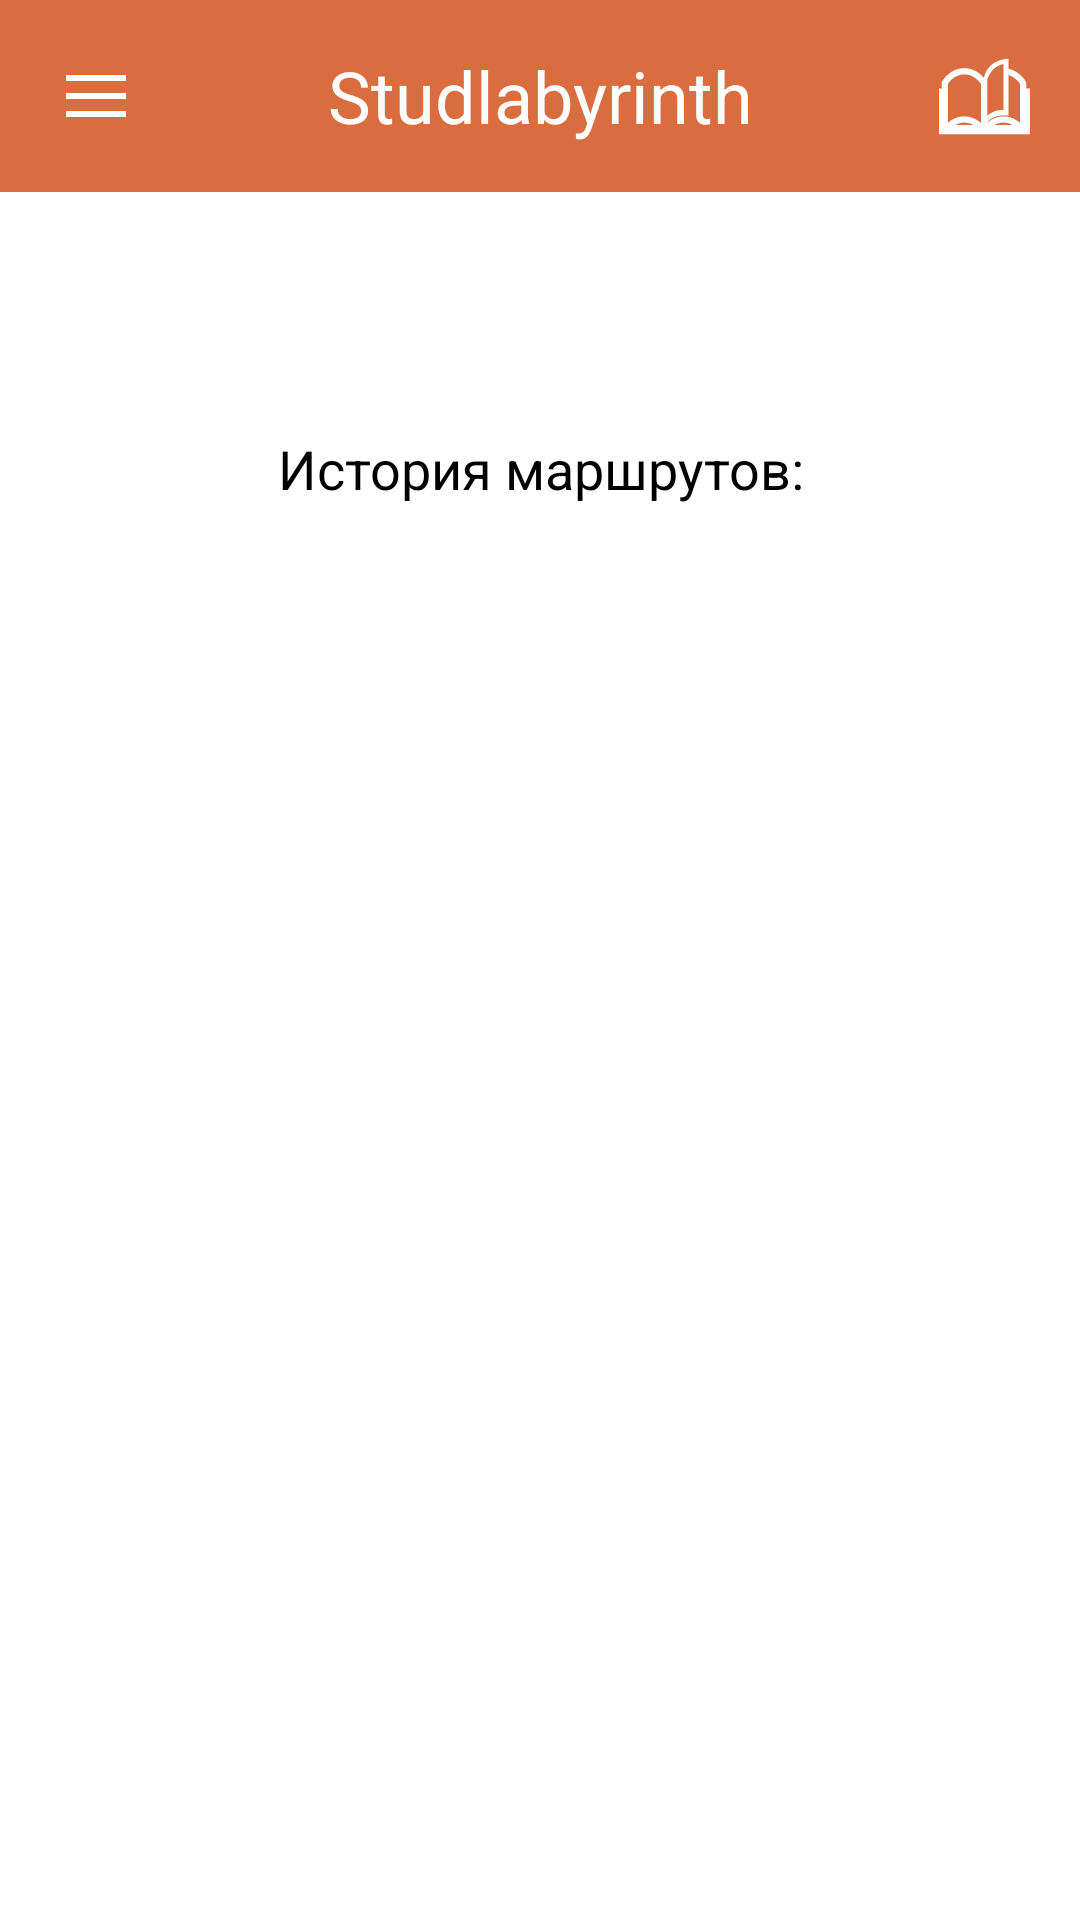

Icon click points for this 1080x1920 phone screenshot, format point (x, y):
menu: point (96, 96)
